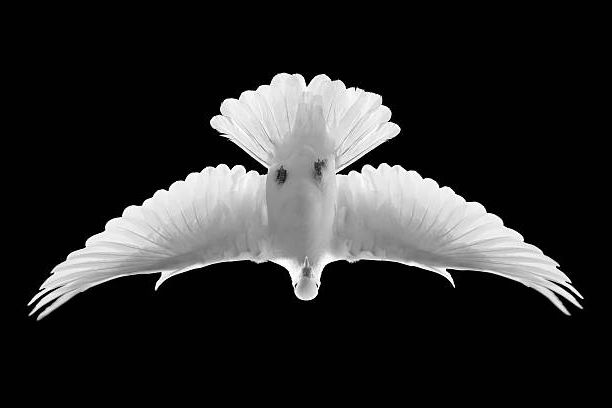Bird: (23, 70, 585, 320)
